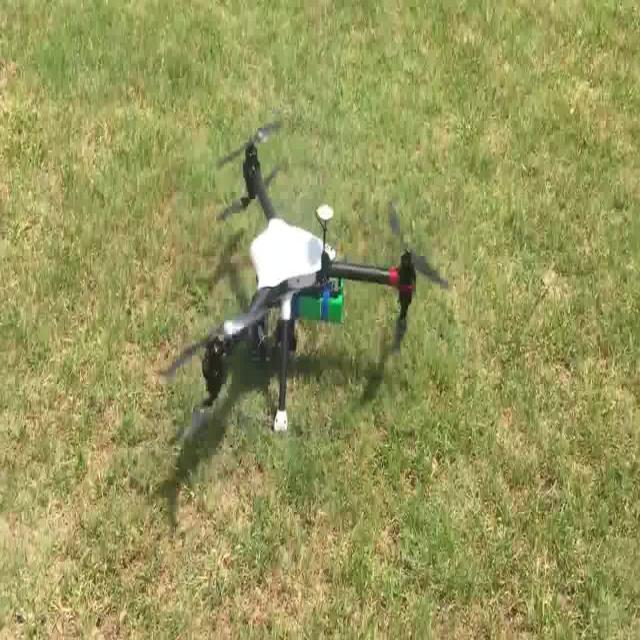drones: (152, 100, 452, 466)
